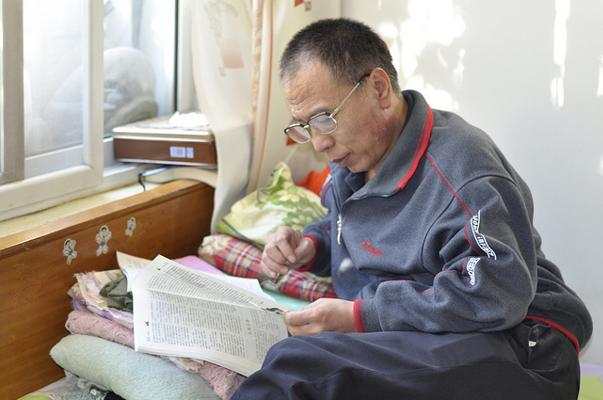person: (228, 18, 594, 400)
